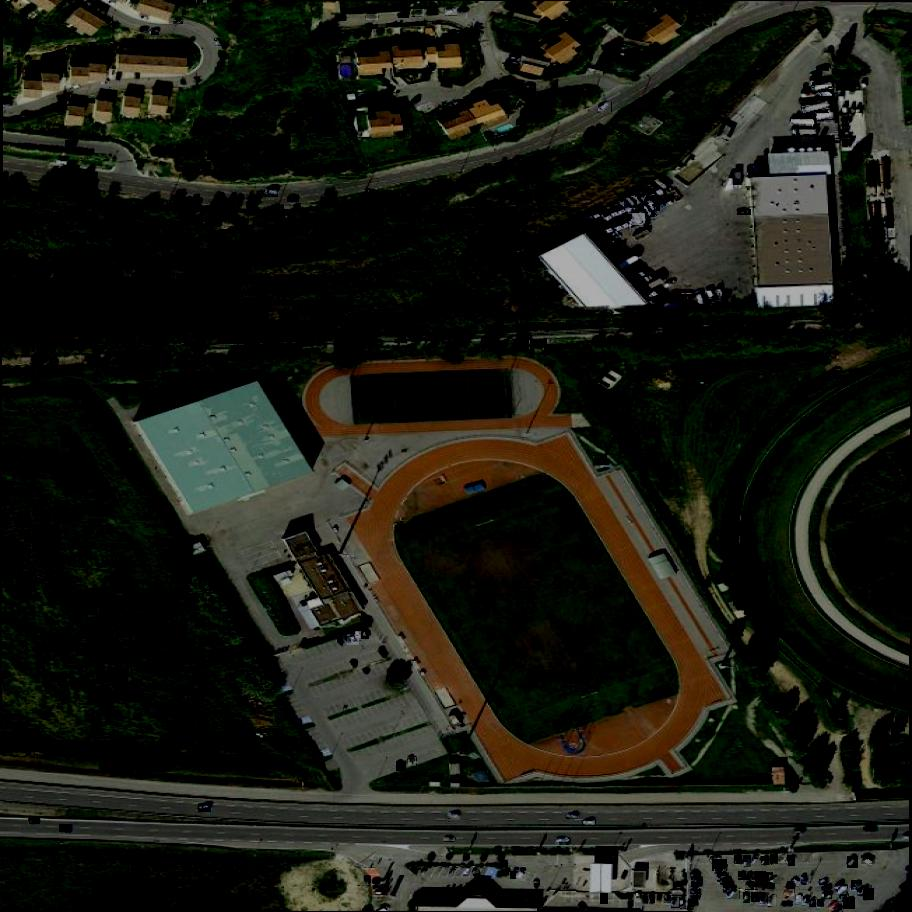large-vehicle: (801, 102, 831, 116), (642, 195, 660, 213), (812, 83, 836, 95), (642, 203, 657, 219), (632, 211, 647, 227), (621, 200, 635, 216), (794, 128, 818, 136), (695, 291, 706, 308), (633, 193, 645, 208), (625, 197, 638, 210), (816, 113, 834, 122), (642, 209, 652, 224), (792, 120, 813, 127), (265, 189, 279, 198), (707, 290, 717, 300)
small-vehicle: (857, 883, 873, 897), (712, 859, 727, 872), (728, 888, 742, 901), (599, 102, 612, 115), (745, 880, 758, 893), (348, 633, 360, 647), (724, 881, 736, 894), (844, 896, 856, 909), (862, 855, 875, 867), (852, 880, 864, 893), (863, 888, 875, 901), (751, 892, 763, 904), (847, 856, 858, 869), (760, 892, 770, 906), (556, 837, 571, 846), (779, 854, 790, 866), (752, 854, 762, 867), (756, 880, 769, 890), (198, 805, 212, 814), (59, 824, 73, 833), (746, 871, 757, 882), (755, 871, 766, 882), (769, 875, 780, 886), (691, 876, 703, 886), (445, 8, 458, 17), (447, 811, 460, 820), (743, 855, 752, 868), (397, 761, 407, 772), (517, 872, 527, 883), (762, 873, 773, 883), (525, 84, 537, 93), (411, 10, 424, 18), (838, 887, 848, 897), (672, 898, 681, 909), (829, 900, 838, 911), (335, 14, 347, 22), (428, 8, 440, 16), (65, 140, 77, 148), (738, 209, 751, 216), (720, 879, 733, 886), (641, 895, 650, 905), (839, 894, 849, 903), (338, 637, 347, 647), (734, 856, 743, 866), (739, 871, 748, 881), (766, 882, 776, 891), (601, 893, 609, 904), (718, 874, 729, 882), (362, 628, 370, 639), (762, 855, 770, 866), (771, 854, 779, 865), (743, 892, 751, 903), (768, 895, 776, 906), (509, 55, 521, 62), (367, 13, 379, 20), (787, 881, 796, 890), (785, 889, 795, 897), (688, 899, 699, 906), (711, 856, 722, 863), (789, 855, 796, 866), (398, 12, 410, 18), (409, 757, 416, 767), (215, 38, 222, 47), (356, 631, 363, 640), (566, 814, 578, 819), (583, 820, 595, 825), (714, 868, 726, 873), (817, 66, 829, 71), (792, 878, 800, 885), (804, 896, 811, 904), (782, 901, 793, 906), (29, 818, 40, 823), (812, 72, 822, 77), (474, 868, 480, 876), (496, 896, 502, 904), (287, 198, 299, 202), (681, 900, 686, 909), (691, 882, 702, 886), (818, 900, 824, 907), (691, 890, 701, 894), (810, 899, 815, 907), (824, 894, 832, 899), (657, 895, 663, 901), (664, 896, 670, 902), (443, 838, 455, 841), (511, 872, 516, 879), (452, 868, 457, 875), (651, 895, 655, 903), (802, 876, 806, 884), (445, 895, 450, 901), (797, 895, 801, 902), (820, 880, 827, 884), (152, 30, 159, 34), (173, 21, 182, 24), (692, 896, 700, 899), (439, 895, 442, 903), (637, 894, 641, 899), (863, 828, 877, 829)
